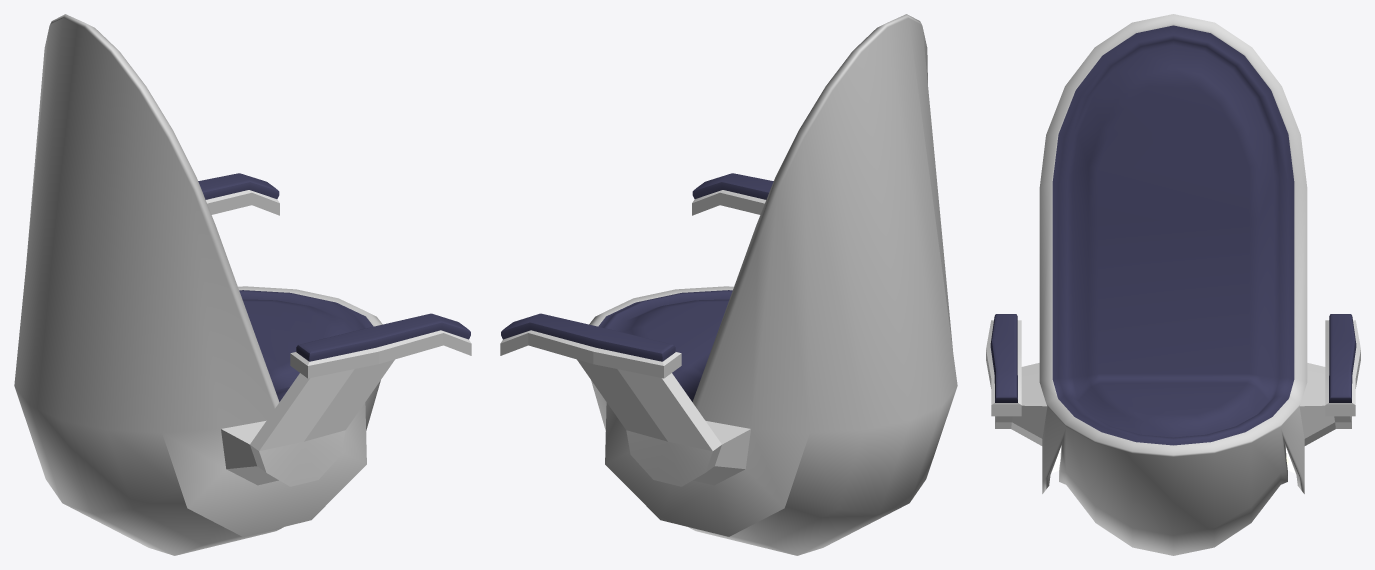
Rendered from Captains_Chair_Mesh.fbx.
3 renders of one model, left to right at view 1: azimuth 30°, elevation 25°; view 2: azimuth 150°, elevation 25°; view 3: azimuth 270°, elevation 25°, orthographic. The views are drawn at different scales.
Visible parts, largest first — view 1: Captains_Chair_Mesh; view 2: Captains_Chair_Mesh; view 3: Captains_Chair_Mesh.
Boxes of the visible parts, bbox=[...] form: Captains_Chair_Mesh: bbox=[14, 14, 471, 555]; Captains_Chair_Mesh: bbox=[500, 14, 957, 555]; Captains_Chair_Mesh: bbox=[986, 14, 1360, 555].
Bounding box in the file's own units: 370 × 548 × 396.
